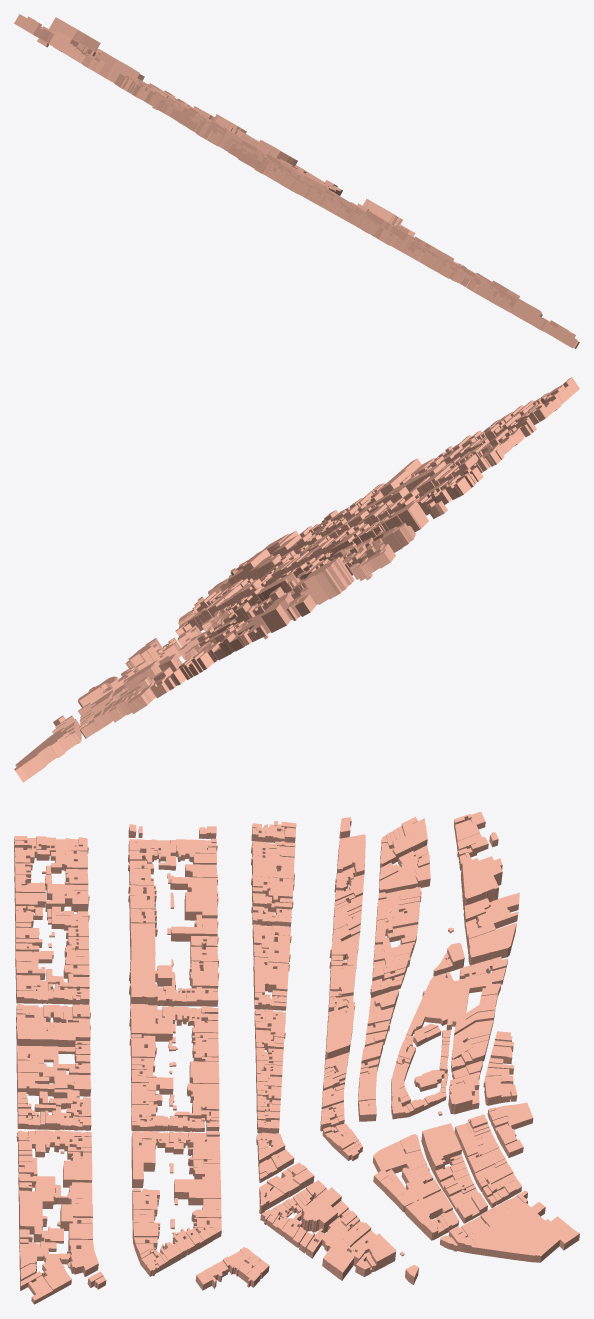
The picture shows the model from 3 angles, top to bottom: view 1: azimuth 30°, elevation 25°; view 2: azimuth 150°, elevation 25°; view 3: azimuth 270°, elevation 25°; orthographic projection. The views are drawn at different scales.
Bounding box in the file's own units: 548 × 395 × 667.
